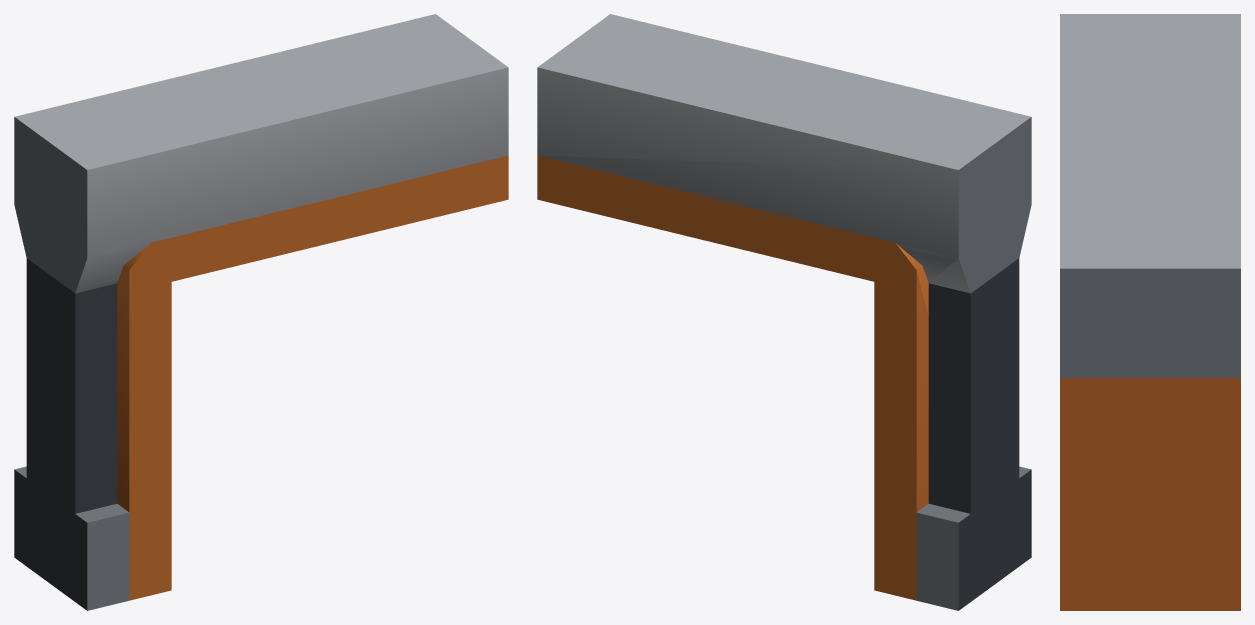
File: Kit_wall-door-edge.fbx
The picture shows the model from 3 angles, left to right: view 1: azimuth 30°, elevation 25°; view 2: azimuth 150°, elevation 25°; view 3: azimuth 270°, elevation 25°; orthographic projection. The views are drawn at different scales.
Parts seen in each view (by area): view 1: Kit_wall-door-edge; view 2: Kit_wall-door-edge; view 3: Kit_wall-door-edge.
Part boxes in pixels (bbox=[...]): Kit_wall-door-edge: bbox=[14, 14, 508, 610]; Kit_wall-door-edge: bbox=[537, 14, 1031, 610]; Kit_wall-door-edge: bbox=[1060, 14, 1240, 610].
Bounding box in the file's own units: 1 × 1 × 0.3.
